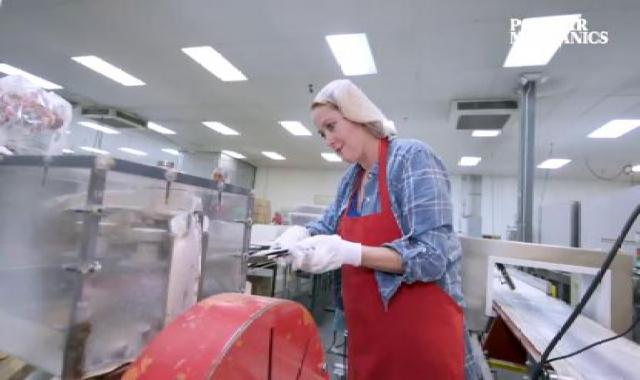hairnet: (304, 79, 406, 142)
